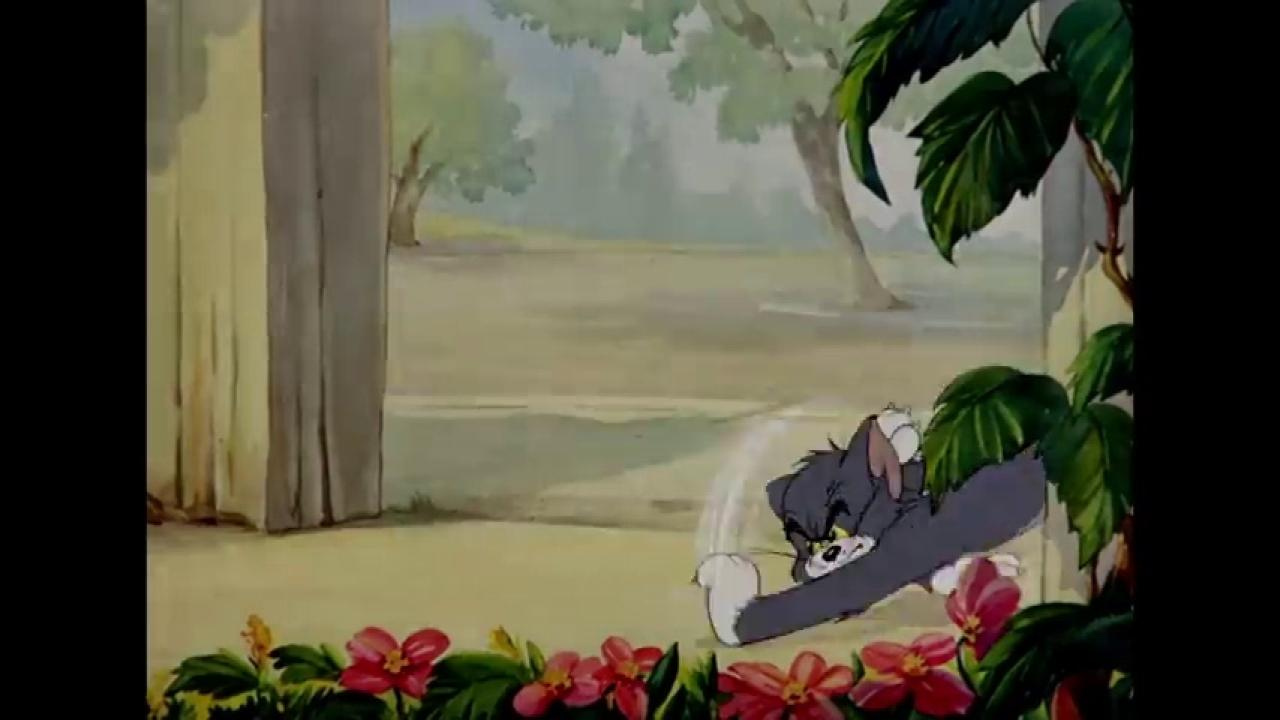Tom: (694, 406, 1046, 647)
